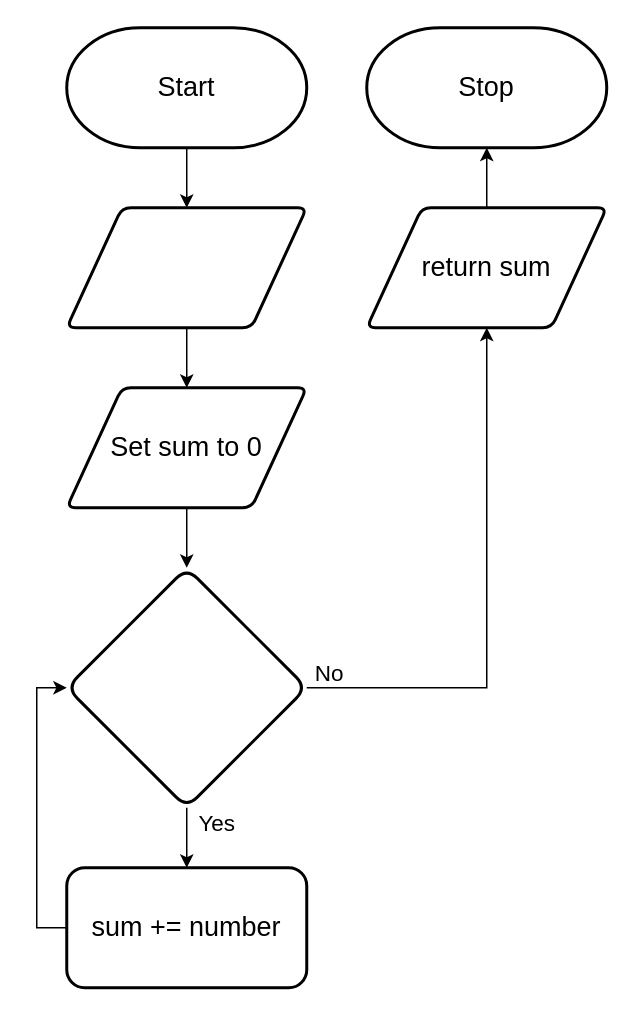
Some shapes in this 635 by 1014 pixel diagram are drawn without their labels. The centre of each missing label's shape, as x and y in pixels:
"for number in array" goes at (186,687).
"Set array" goes at (186,267).
